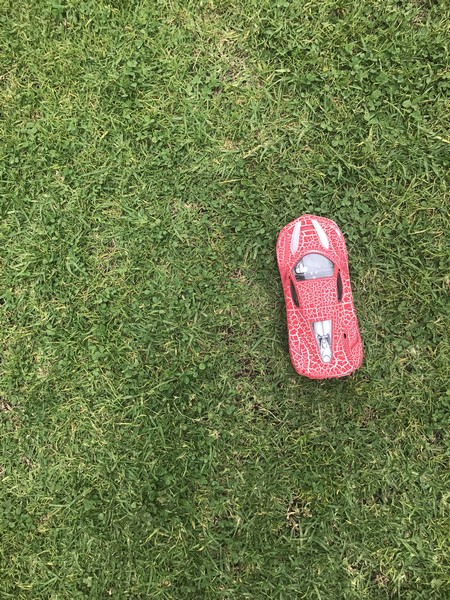RC: (274, 214, 366, 382)
